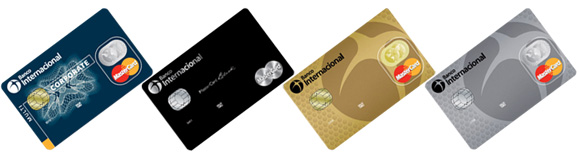tarjeta: (143, 8, 295, 151), (284, 8, 436, 151), (2, 8, 152, 149), (425, 10, 575, 148)
